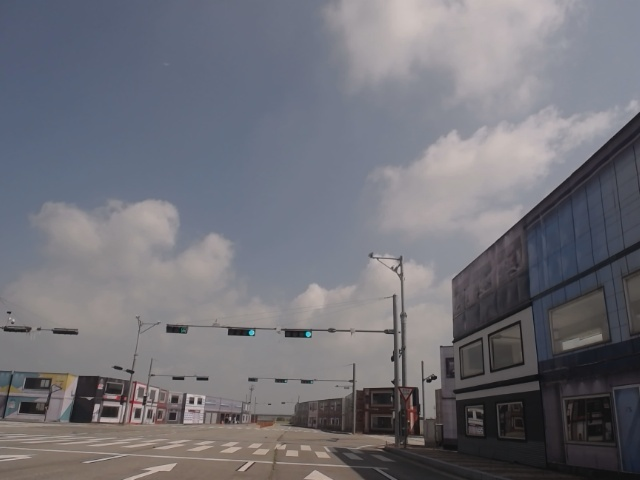straight_green_4: (282, 327, 312, 338), (229, 328, 256, 337)
